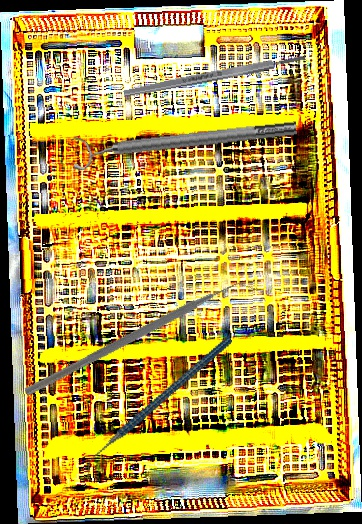Chopper: (22, 211, 261, 471), (58, 334, 260, 479)
Fixation Ring: (70, 111, 299, 172)
Scalpel Handle: (122, 52, 307, 99)
